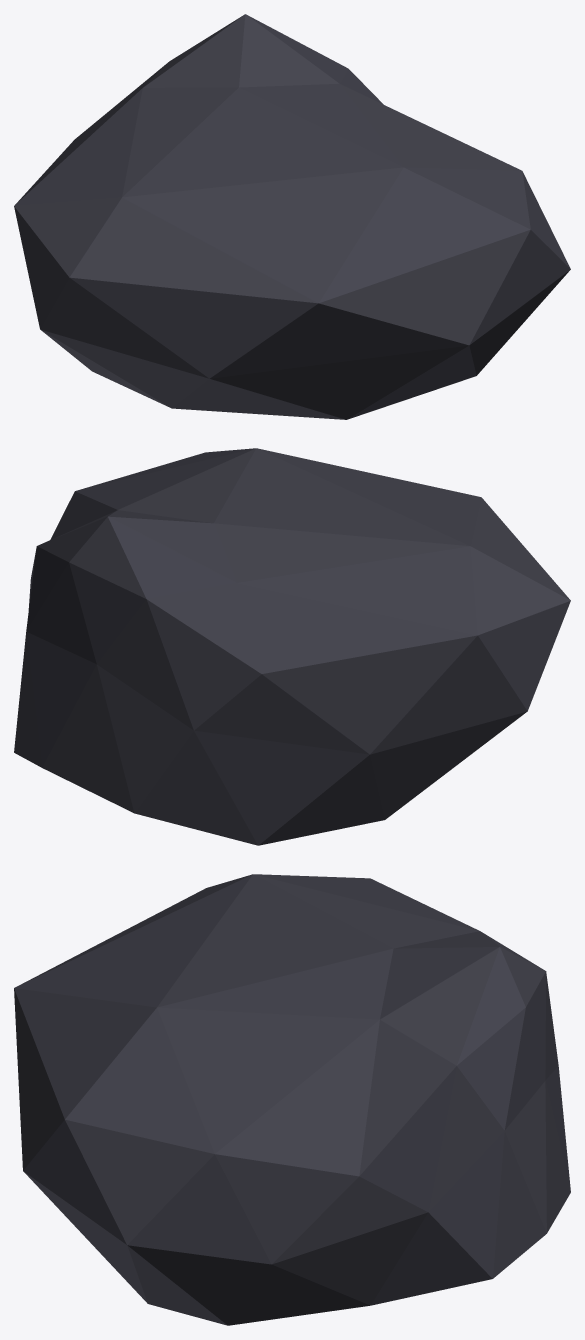
The model's file is Stone_03.fbx.
3 views of the same model, one above another, from view 1: azimuth 30°, elevation 25°; view 2: azimuth 150°, elevation 25°; view 3: azimuth 270°, elevation 25° (orthographic). The views are drawn at different scales.
Visible parts, largest first — view 1: Stone_03; view 2: Stone_03; view 3: Stone_03.
Boxes of the visible parts, <box> form: Stone_03: <box>14,14,570,419</box>; Stone_03: <box>14,448,570,845</box>; Stone_03: <box>14,874,570,1325</box>.
Bounding box in the file's own units: 18.12 × 10.02 × 16.17.
